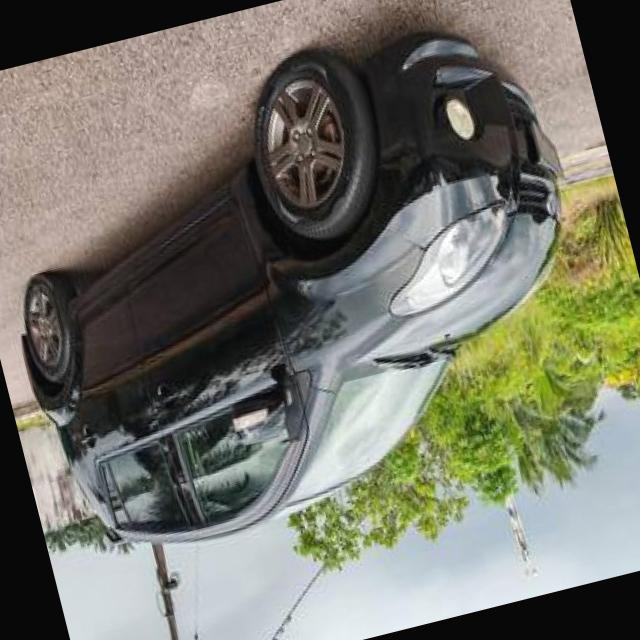PeroduaMyvi: (0, 0, 631, 580)
